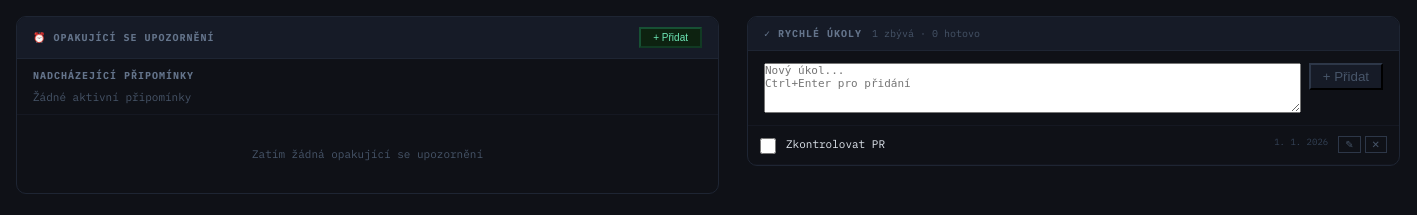
TodoView — TODO položky › úpravou textu a potvrzením se zobrazí aktualizovaný text
Click the button titled "Upravit". click: (1349, 144)
box: top-left (1338, 136), bottom-right (1361, 153)
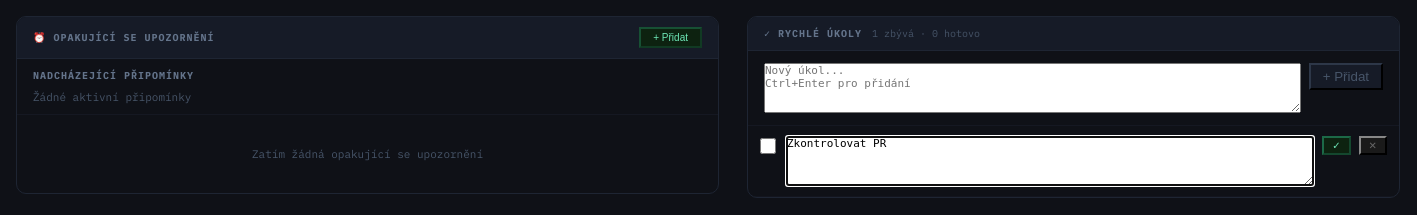
Replace the text in the text box showing "Zkontrolovat PR" with "Zkontrolovat PR #42 od Jana Nováka". click: (1050, 161)
box: top-left (786, 136), bottom-right (1314, 186)
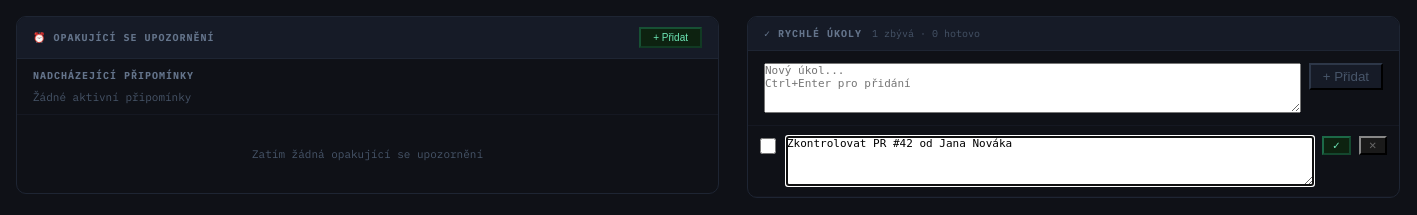
Click the button "✓". click: (1336, 146)
box: top-left (1322, 136), bottom-right (1351, 155)
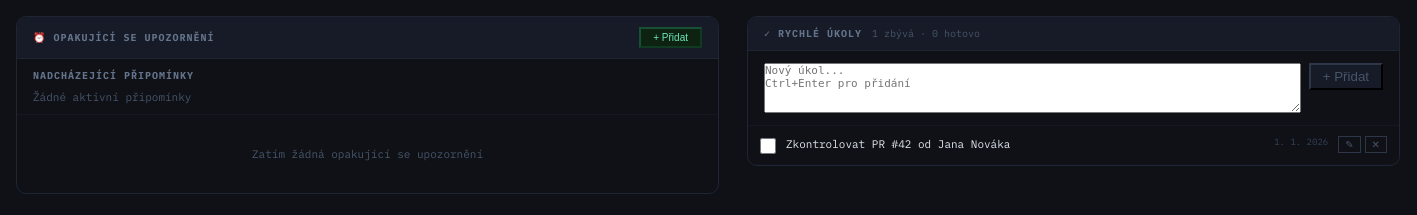
expect the text "Zkontrolovat PR #42 od Jana Nováka" is shown: met, box top-left (786, 137), bottom-right (1010, 151)
